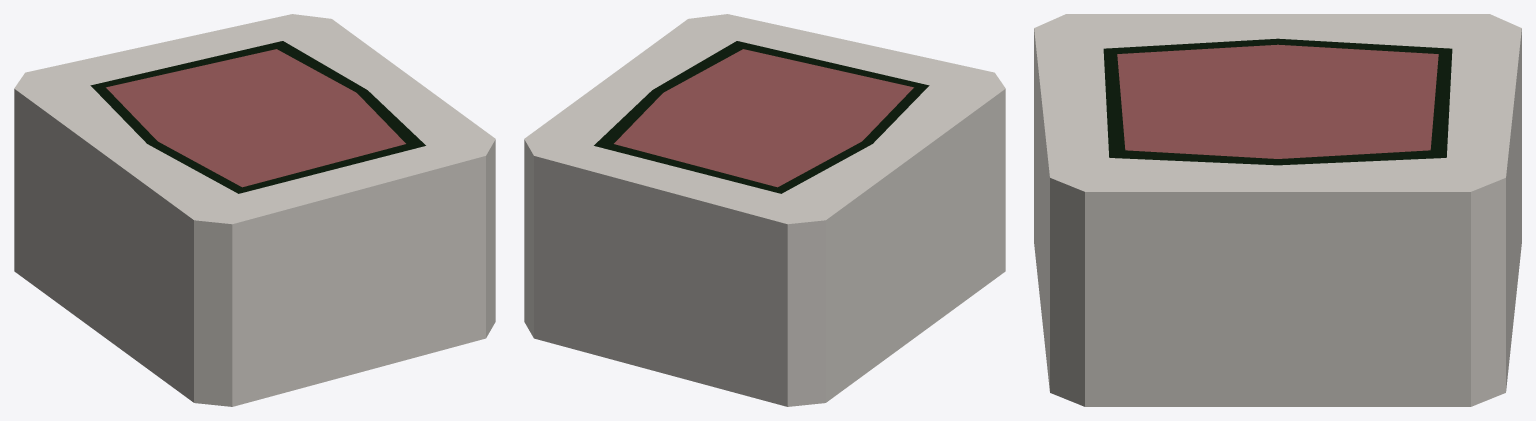
The model's file is uramakiTuna.fbx.
The picture shows the model from 3 angles, left to right: view 1: azimuth 30°, elevation 25°; view 2: azimuth 150°, elevation 25°; view 3: azimuth 270°, elevation 25°; orthographic projection. The views are drawn at different scales.
Visible parts, largest first — view 1: uramakiTuna; view 2: uramakiTuna; view 3: uramakiTuna.
Boxes of the visible parts, box(x1,y1,x2,y2) form: uramakiTuna: box(14, 14, 495, 406); uramakiTuna: box(524, 14, 1005, 406); uramakiTuna: box(1034, 14, 1521, 406).
Size of the model in its own units: 5.55 by 3.13 by 6.43.
Materials: 1 (1 with a texture image).
